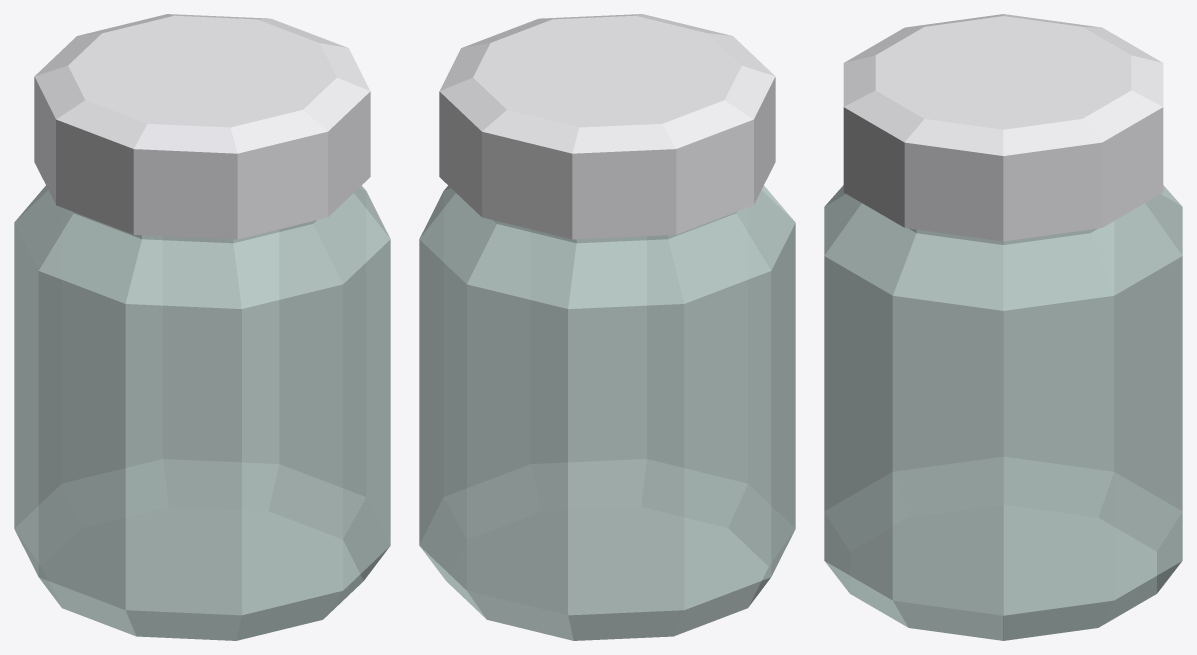
File: Waste_Jar.fbx
3 renders of one model, left to right at view 1: azimuth 30°, elevation 25°; view 2: azimuth 150°, elevation 25°; view 3: azimuth 270°, elevation 25°, orthographic.
Visible parts, largest first — view 1: Waste_Jar; view 2: Waste_Jar; view 3: Waste_Jar.
Part boxes in pixels (box(x1,y1,x2,y2)): Waste_Jar: box(14, 14, 390, 640); Waste_Jar: box(419, 14, 795, 640); Waste_Jar: box(824, 14, 1182, 640).
Size of the model in its own units: 0.28 by 0.41 by 0.2663.
